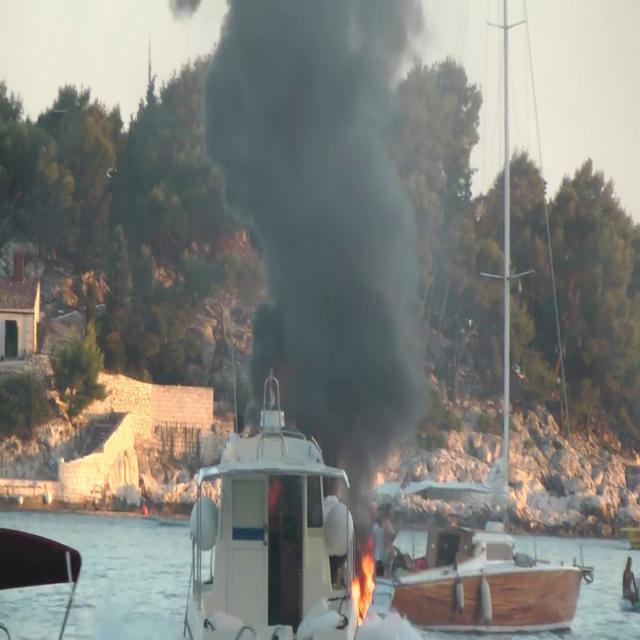Fire: (348, 542, 376, 622)
Smoke: (190, 1, 468, 470)
